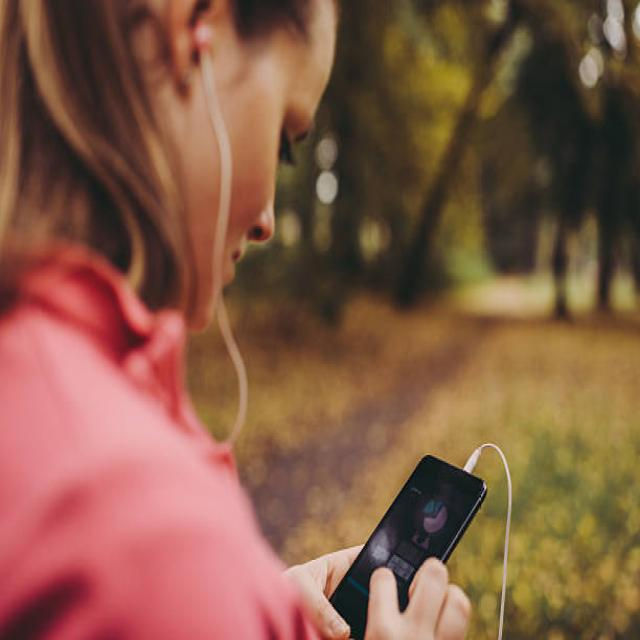Earphone: (464, 437, 513, 640)
